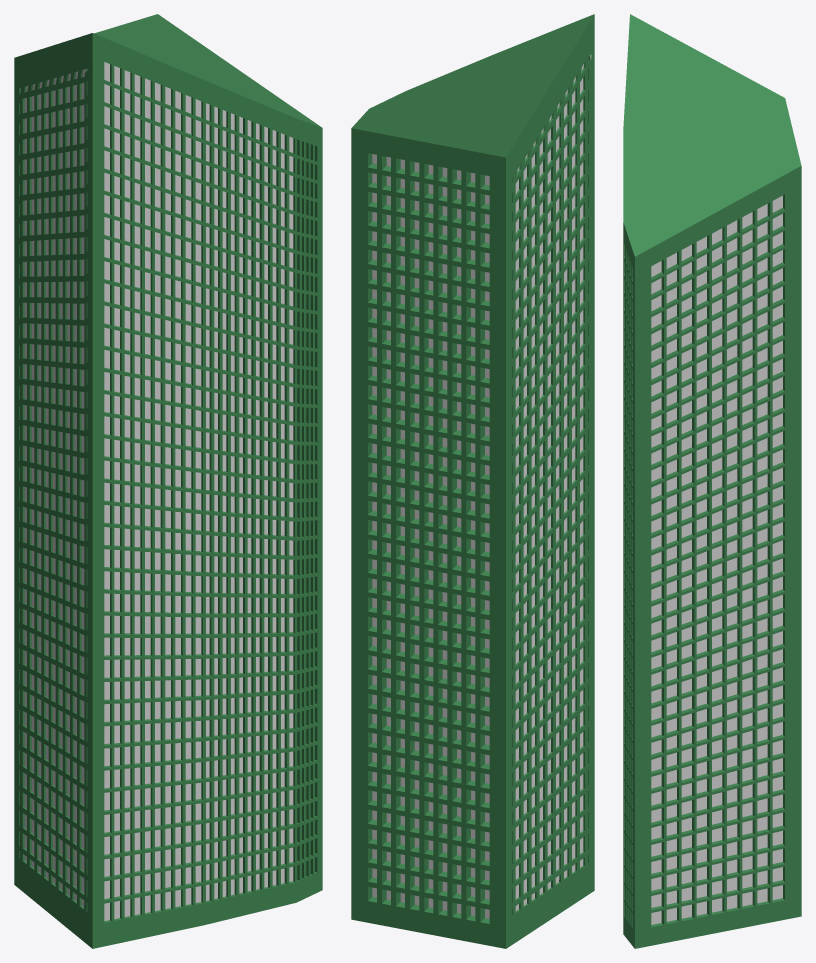
The model's file is ThePointer.fbx.
The picture shows the model from 3 angles, left to right: view 1: azimuth 30°, elevation 25°; view 2: azimuth 150°, elevation 25°; view 3: azimuth 270°, elevation 25°; orthographic projection. The views are drawn at different scales.
Parts seen in each view (by area): view 1: ThePointer; view 2: ThePointer; view 3: ThePointer.
Part boxes in pixels (x1=…): ThePointer: x1=14, y1=14, x2=322, y2=948; ThePointer: x1=351, y1=14, x2=594, y2=948; ThePointer: x1=623, y1=14, x2=801, y2=948.
Size of the model in its own units: 4699 by 17549 by 3404.
